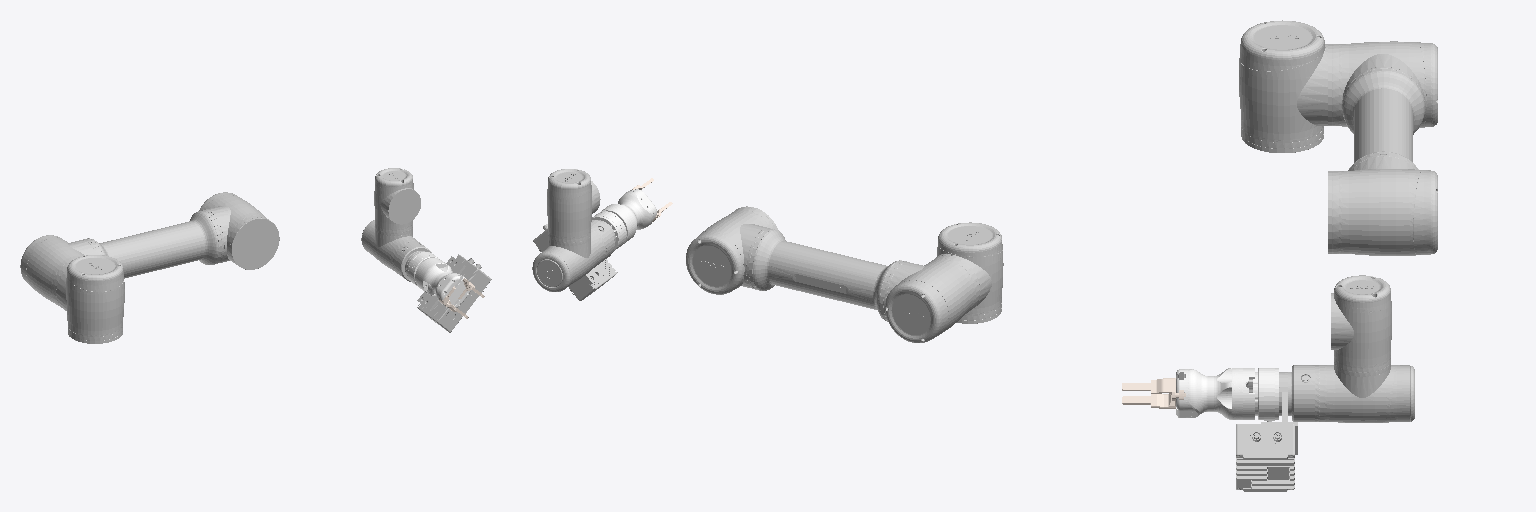
The robot description file, URDF, robot "simulation_platform_ver4-10.SLDASM":
<?xml version="1.0" encoding="utf-8"?>
<!-- This URDF was automatically created by SolidWorks to URDF Exporter! Originally created by [author] ([email redacted]) 
     Commit Version: 1.6.0-4-g7f85cfe  Build Version: 1.6.7995.38578
     For more information, please see http://wiki.ros.org/sw_urdf_exporter -->
<robot
  name="simulation_platform_ver4-10.SLDASM">
  <link
    name="left_base">
    <inertial>
      <origin
        xyz="0.00099186 -0.00019265 0.01955"
        rpy="0 0 0" />
      <mass
        value="0.51639" />
      <inertia
        ixx="0.00062894"
        ixy="-6.2995E-09"
        ixz="3.2112E-06"
        iyy="0.00086769"
        iyz="2.4501E-07"
        izz="0.0013618" />
    </inertial>
    <visual>
      <origin
        xyz="0 0 0"
        rpy="0 0 0" />
      <geometry>
        <mesh
          filename="package://simulation_platform_ver4-10.SLDASM/meshes/left_base.STL" />
      </geometry>
      <material
        name="">
        <color
          rgba="0.84706 0.84706 0.84706 1" />
      </material>
    </visual>
    <collision>
      <origin
        xyz="0 0 0"
        rpy="0 0 0" />
      <geometry>
        <mesh
          filename="package://simulation_platform_ver4-10.SLDASM/meshes/left_base.STL" />
      </geometry>
    </collision>
  </link>
  <link
    name="left_link1">
    <inertial>
      <origin
        xyz="-2.5186E-07 0.0033226 -0.001509"
        rpy="0 0 0" />
      <mass
        value="15.135" />
      <inertia
        ixx="0.044303"
        ixy="-2.8117E-08"
        ixz="-4.0597E-07"
        iyy="0.04309"
        iyz="1.4372E-05"
        izz="0.030522" />
    </inertial>
    <visual>
      <origin
        xyz="0 0 0"
        rpy="0 0 0" />
      <geometry>
        <mesh
          filename="package://simulation_platform_ver4-10.SLDASM/meshes/left_link1.STL" />
      </geometry>
      <material
        name="">
        <color
          rgba="0.84706 0.84706 0.84706 1" />
      </material>
    </visual>
    <collision>
      <origin
        xyz="0 0 0"
        rpy="0 0 0" />
      <geometry>
        <mesh
          filename="package://simulation_platform_ver4-10.SLDASM/meshes/left_link1.STL" />
      </geometry>
    </collision>
  </link>
  <joint
    name="l_j1"
    type="prismatic">
    <origin
      xyz="0 -0.00022535 0.12015"
      rpy="0 0 0" />
    <parent
      link="left_base" />
    <child
      link="left_link1" />
    <axis
      xyz="0 0 -1" />
    <limit
      lower="-6.2832"
      upper="6.2832"
      effort="0"
      velocity="0" />
  </joint>
  <link
    name="left_link2">
    <inertial>
      <origin
        xyz="0.215 6.4317E-09 -0.14315"
        rpy="0 0 0" />
      <mass
        value="45.847" />
      <inertia
        ixx="0.10375"
        ixy="-5.871E-08"
        ixz="2.5428E-07"
        iyy="0.24012"
        iyz="2.1548E-08"
        izz="0.21257" />
    </inertial>
    <visual>
      <origin
        xyz="0 0 0"
        rpy="0 0 0" />
      <geometry>
        <mesh
          filename="package://simulation_platform_ver4-10.SLDASM/meshes/left_link2.STL" />
      </geometry>
      <material
        name="">
        <color
          rgba="0.84706 0.84706 0.84706 1" />
      </material>
    </visual>
    <collision>
      <origin
        xyz="0 0 0"
        rpy="0 0 0" />
      <geometry>
        <mesh
          filename="package://simulation_platform_ver4-10.SLDASM/meshes/left_link2.STL" />
      </geometry>
    </collision>
  </link>
  <joint
    name="l_j2"
    type="revolute">
    <origin
      xyz="0 0 0"
      rpy="1.5708 0 0" />
    <parent
      link="left_link1" />
    <child
      link="left_link2" />
    <axis
      xyz="0 0 1" />
    <limit
      lower="-1.4835"
      upper="4.6251"
      effort="0"
      velocity="0" />
  </joint>
  <link
    name="left_link3">
    <inertial>
      <origin
        xyz="0.19074 -1.5269E-05 -0.010637"
        rpy="0 0 0" />
      <mass
        value="18.053" />
      <inertia
        ixx="0.019791"
        ixy="6.4861E-07"
        ixz="-0.01628"
        iyy="0.16863"
        iyz="3.3764E-07"
        izz="0.16527" />
    </inertial>
    <visual>
      <origin
        xyz="0 0 0"
        rpy="0 0 0" />
      <geometry>
        <mesh
          filename="package://simulation_platform_ver4-10.SLDASM/meshes/left_link3.STL" />
      </geometry>
      <material
        name="">
        <color
          rgba="0.84706 0.84706 0.84706 1" />
      </material>
    </visual>
    <collision>
      <origin
        xyz="0 0 0"
        rpy="0 0 0" />
      <geometry>
        <mesh
          filename="package://simulation_platform_ver4-10.SLDASM/meshes/left_link3.STL" />
      </geometry>
    </collision>
  </link>
  <joint
    name="l_j3"
    type="revolute">
    <origin
      xyz="0.43 0 0"
      rpy="0 0 0" />
    <parent
      link="left_link2" />
    <child
      link="left_link3" />
    <axis
      xyz="0 0 1" />
    <limit
      lower="-3.0543"
      upper="3.0543"
      effort="0"
      velocity="0" />
  </joint>
  <link
    name="left_link4">
    <inertial>
      <origin
        xyz="-1.9873E-06 -0.0059512 0.0026789"
        rpy="0 0 0" />
      <mass
        value="5.5378" />
      <inertia
        ixx="0.0070842"
        ixy="1.8321E-07"
        ixz="-2.3617E-08"
        iyy="0.0051612"
        iyz="-0.00039774"
        izz="0.0068432" />
    </inertial>
    <visual>
      <origin
        xyz="0 0 0"
        rpy="0 0 0" />
      <geometry>
        <mesh
          filename="package://simulation_platform_ver4-10.SLDASM/meshes/left_link4.STL" />
      </geometry>
      <material
        name="">
        <color
          rgba="0.84706 0.84706 0.84706 1" />
      </material>
    </visual>
    <collision>
      <origin
        xyz="0 0 0"
        rpy="0 0 0" />
      <geometry>
        <mesh
          filename="package://simulation_platform_ver4-10.SLDASM/meshes/left_link4.STL" />
      </geometry>
    </collision>
  </link>
  <joint
    name="l_j4"
    type="revolute">
    <origin
      xyz="0.3685 -1.185E-05 -0.114"
      rpy="0 0 0" />
    <parent
      link="left_link3" />
    <child
      link="left_link4" />
    <axis
      xyz="0 0 -1" />
    <limit
      lower="-1.4835"
      upper="4.6251"
      effort="0"
      velocity="0" />
  </joint>
  <link
    name="left_link5">
    <inertial>
      <origin
        xyz="-1.9094E-06 -0.0028891 -0.0023424"
        rpy="0 0 0" />
      <mass
        value="6.3339" />
      <inertia
        ixx="0.01292"
        ixy="-1.0866E-07"
        ixz="5.8906E-09"
        iyy="0.0058453"
        iyz="4.296E-05"
        izz="0.012628" />
    </inertial>
    <visual>
      <origin
        xyz="0 0 0"
        rpy="0 0 0" />
      <geometry>
        <mesh
          filename="package://simulation_platform_ver4-10.SLDASM/meshes/left_link5.STL" />
      </geometry>
      <material
        name="">
        <color
          rgba="0.84706 0.84706 0.84706 1" />
      </material>
    </visual>
    <collision>
      <origin
        xyz="0 0 0"
        rpy="0 0 0" />
      <geometry>
        <mesh
          filename="package://simulation_platform_ver4-10.SLDASM/meshes/left_link5.STL" />
      </geometry>
    </collision>
  </link>
  <joint
    name="l_j5"
    type="revolute">
    <origin
      xyz="0 -0.1135 0"
      rpy="1.5708 0 0" />
    <parent
      link="left_link4" />
    <child
      link="left_link5" />
    <axis
      xyz="0 0 1" />
    <limit
      lower="-6.2832"
      upper="6.2832"
      effort="0"
      velocity="0" />
  </joint>
  <link
    name="left_link6">
    <inertial>
      <origin
        xyz="0.018424 -0.018363 -0.006442"
        rpy="0 0 0" />
      <mass
        value="2.0327" />
      <inertia
        ixx="0.0016292"
        ixy="-0.00040439"
        ixz="-8.2865E-06"
        iyy="0.0016369"
        iyz="5.7271E-06"
        izz="0.0023061" />
    </inertial>
    <visual>
      <origin
        xyz="0 0 0"
        rpy="0 0 0" />
      <geometry>
        <mesh
          filename="package://simulation_platform_ver4-10.SLDASM/meshes/left_link6.STL" />
      </geometry>
      <material
        name="">
        <color
          rgba="0.84706 0.84706 0.84706 1" />
      </material>
    </visual>
    <collision>
      <origin
        xyz="0 0 0"
        rpy="0 0 0" />
      <geometry>
        <mesh
          filename="package://simulation_platform_ver4-10.SLDASM/meshes/left_link6.STL" />
      </geometry>
    </collision>
  </link>
  <joint
    name="l_j6"
    type="revolute">
    <origin
      xyz="0 0.107 0"
      rpy="-1.5708 0 0" />
    <parent
      link="left_link5" />
    <child
      link="left_link6" />
    <axis
      xyz="0 0 1" />
    <limit
      lower="-6.2832"
      upper="6.2832"
      effort="0"
      velocity="0" />
  </joint>
  <link
    name="left_force_sensor">
    <inertial>
      <origin
        xyz="8.0746E-05 -0.00026203 -0.019289"
        rpy="0 0 0" />
      <mass
        value="0.11446" />
      <inertia
        ixx="4.8516E-05"
        ixy="4.0588E-07"
        ixz="-3.1202E-09"
        iyy="4.7634E-05"
        iyz="-1.3601E-07"
        izz="8.3802E-05" />
    </inertial>
    <visual>
      <origin
        xyz="0 0 0"
        rpy="0 0 0" />
      <geometry>
        <mesh
          filename="package://simulation_platform_ver4-10.SLDASM/meshes/left_force_sensor.STL" />
      </geometry>
      <material
        name="">
        <color
          rgba="1 1 1 1" />
      </material>
    </visual>
    <collision>
      <origin
        xyz="0 0 0"
        rpy="0 0 0" />
      <geometry>
        <mesh
          filename="package://simulation_platform_ver4-10.SLDASM/meshes/left_force_sensor.STL" />
      </geometry>
    </collision>
  </link>
  <joint
    name="l_f1"
    type="fixed">
    <origin
      xyz="0 0 0.0495"
      rpy="0 0 0" />
    <parent
      link="left_link6" />
    <child
      link="left_force_sensor" />
    <axis
      xyz="0 0 0" />
  </joint>
  <link
    name="gripper_body">
    <inertial>
      <origin
        xyz="2.2506E-05 -0.00012911 0.050935"
        rpy="0 0 0" />
      <mass
        value="0.34315" />
      <inertia
        ixx="0.00027737"
        ixy="-1.2904E-08"
        ixz="-3.9996E-09"
        iyy="0.00027899"
        iyz="4.6683E-07"
        izz="0.00020334" />
    </inertial>
    <visual>
      <origin
        xyz="0 0 0"
        rpy="0 0 0" />
      <geometry>
        <mesh
          filename="package://simulation_platform_ver4-10.SLDASM/meshes/gripper_body.STL" />
      </geometry>
      <material
        name="">
        <color
          rgba="1 1 1 1" />
      </material>
    </visual>
    <collision>
      <origin
        xyz="0 0 0"
        rpy="0 0 0" />
      <geometry>
        <mesh
          filename="package://simulation_platform_ver4-10.SLDASM/meshes/gripper_body.STL" />
      </geometry>
    </collision>
  </link>
  <joint
    name="l_f2"
    type="revolute">
    <origin
      xyz="0 0 0"
      rpy="0 0 -0.7854" />
    <parent
      link="left_force_sensor" />
    <child
      link="gripper_body" />
    <axis
      xyz="0 0 -1" />
    <limit
      lower="0"
      upper="0"
      effort="0"
      velocity="0" />
  </joint>
  <link
    name="left_gripper">
    <inertial>
      <origin
        xyz="-0.029434 0.0072389 -0.0025796"
        rpy="0 0 0" />
      <mass
        value="0.013412" />
      <inertia
        ixx="2.7117E-06"
        ixy="1.3242E-06"
        ixz="-1.3506E-06"
        iyy="5.8064E-06"
        iyz="7.0318E-07"
        izz="4.9781E-06" />
    </inertial>
    <visual>
      <origin
        xyz="0 0 0"
        rpy="0 0 0" />
      <geometry>
        <mesh
          filename="package://simulation_platform_ver4-10.SLDASM/meshes/left_gripper.STL" />
      </geometry>
      <material
        name="">
        <color
          rgba="1 0.94902 0.9098 1" />
      </material>
    </visual>
    <collision>
      <origin
        xyz="0 0 0"
        rpy="0 0 0" />
      <geometry>
        <mesh
          filename="package://simulation_platform_ver4-10.SLDASM/meshes/left_gripper.STL" />
      </geometry>
    </collision>
  </link>
  <joint
    name="l_p1"
    type="prismatic">
    <origin
      xyz="0 -0.025 0.14678"
      rpy="1.5708 -1.5708 0" />
    <parent
      link="gripper_body" />
    <child
      link="left_gripper" />
    <axis
      xyz="0 0 -1" />
    <limit
      lower="-0.01"
      upper="0.01"
      effort="0"
      velocity="0" />
  </joint>
  <link
    name="right_gripper">
    <inertial>
      <origin
        xyz="0.0072589 -0.029434 0.0025796"
        rpy="0 0 0" />
      <mass
        value="0.013412" />
      <inertia
        ixx="5.8064E-06"
        ixy="1.3242E-06"
        ixz="-7.0318E-07"
        iyy="2.7117E-06"
        iyz="1.3506E-06"
        izz="4.9781E-06" />
    </inertial>
    <visual>
      <origin
        xyz="0 0 0"
        rpy="0 0 0" />
      <geometry>
        <mesh
          filename="package://simulation_platform_ver4-10.SLDASM/meshes/right_gripper.STL" />
      </geometry>
      <material
        name="">
        <color
          rgba="1 0.94902 0.9098 1" />
      </material>
    </visual>
    <collision>
      <origin
        xyz="0 0 0"
        rpy="0 0 0" />
      <geometry>
        <mesh
          filename="package://simulation_platform_ver4-10.SLDASM/meshes/right_gripper.STL" />
      </geometry>
    </collision>
  </link>
  <joint
    name="l_p2"
    type="prismatic">
    <origin
      xyz="0 0.025 0.14678"
      rpy="1.5708 0 0" />
    <parent
      link="gripper_body" />
    <child
      link="right_gripper" />
    <axis
      xyz="0 0 -1" />
    <limit
      lower="-0.01"
      upper="0.01"
      effort="0"
      velocity="0" />
  </joint>
</robot>

--- Render facts (derived) ---
The picture shows the robot from 3 angles, left to right: view 1: azimuth 30°, elevation 25°; view 2: azimuth 150°, elevation 25°; view 3: azimuth 270°, elevation 25°; orthographic projection.
Robot: simulation_platform_ver4-10.SLDASM — 11 links, 10 joints (6 revolute, 3 prismatic, 1 fixed); root link left_base; default pose: all joints at 0.
Visible links, largest first — view 1: left_link2, left_link1, left_link4, left_link6, gripper_body, left_link5; view 2: left_link2, left_link1, left_link4, left_link5, left_link6, gripper_body, left_force_sensor; view 3: left_link2, left_link1, left_link6, left_link4, left_link5, gripper_body, left_force_sensor, right_gripper, left_gripper.
Link boxes in pixels (x1,y1,x2,y2): left_link2: (20,192,279,307); left_link1: (56,255,124,343); left_link4: (374,168,420,235); left_link6: (394,242,491,332); gripper_body: (415,258,470,307); left_link5: (361,220,419,273); left_link2: (686,206,979,342); left_link1: (936,222,1003,323); left_link4: (547,169,600,245); left_link5: (532,227,606,291); left_link6: (533,220,617,300); gripper_body: (601,189,656,243); left_force_sensor: (592,211,626,251); left_link2: (1328,41,1437,255); left_link1: (1239,20,1327,152); left_link6: (1236,365,1314,491); left_link4: (1331,275,1391,376); left_link5: (1315,365,1414,422); gripper_body: (1176,368,1254,419); left_force_sensor: (1253,368,1278,421); right_gripper: (1122,378,1185,405); left_gripper: (1122,394,1175,408).
Size in the robot's own frame: 0.9985 by 0.451 by 0.3285 metres.
9 mesh visuals loaded from 11 distinct referenced files (9 binary STL); not drawn: 2 (reference not matched to a file when rendering).